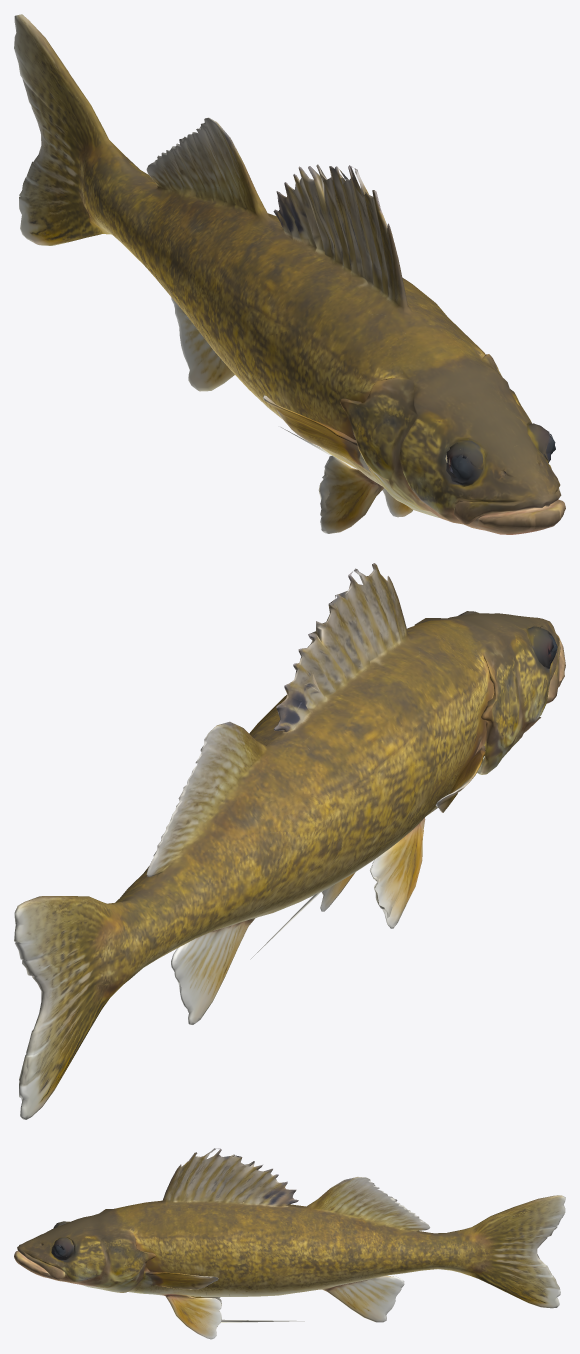
The model's file is fish-walleye.glb.
3 views of the same model, one above another, from view 1: azimuth 30°, elevation 25°; view 2: azimuth 150°, elevation 25°; view 3: azimuth 270°, elevation 25° (orthographic). The views are drawn at different scales.
Parts seen in each view (by area): view 1: geometry_0; view 2: geometry_0; view 3: geometry_0.
Boxes of the visible parts, <box> form: geometry_0: <box>14,14,565,534</box>; geometry_0: <box>14,563,565,1119</box>; geometry_0: <box>14,1148,565,1339</box>.
Size of the model in its own units: 0.2061 by 0.3486 by 0.9561.
Materials: 1 (1 with a texture image).
